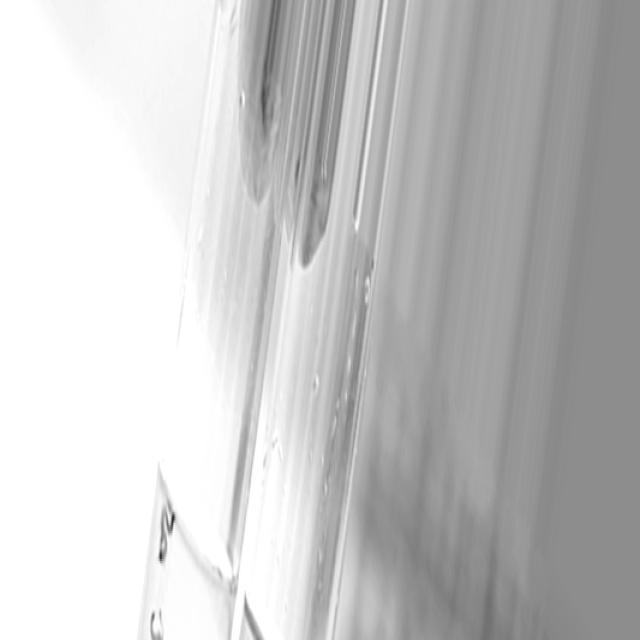larvas: (160, 510, 177, 532), (149, 614, 165, 637), (155, 537, 169, 561)
